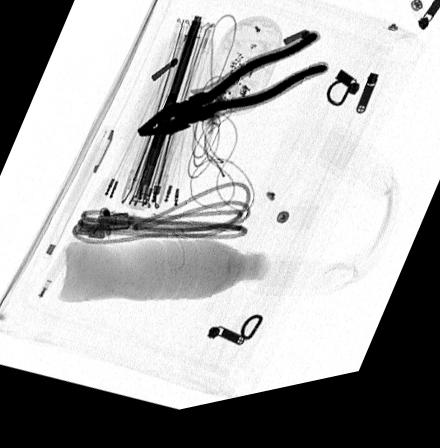Pliers: (133, 44, 330, 144)
